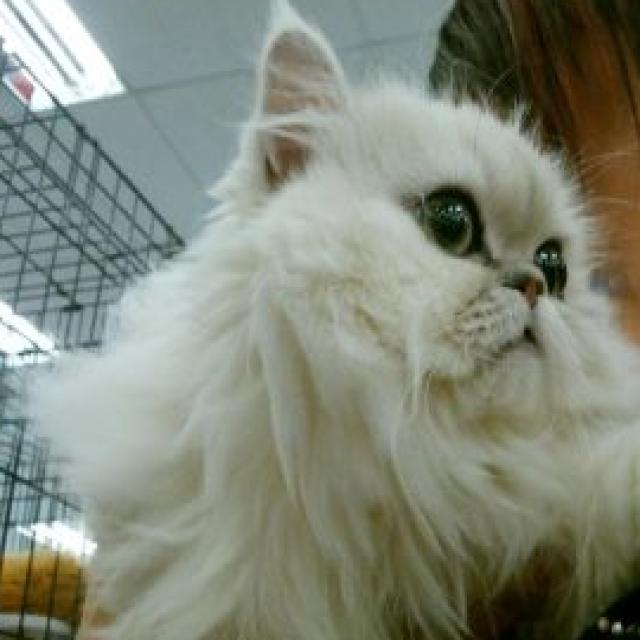Persian: (31, 0, 640, 640)
